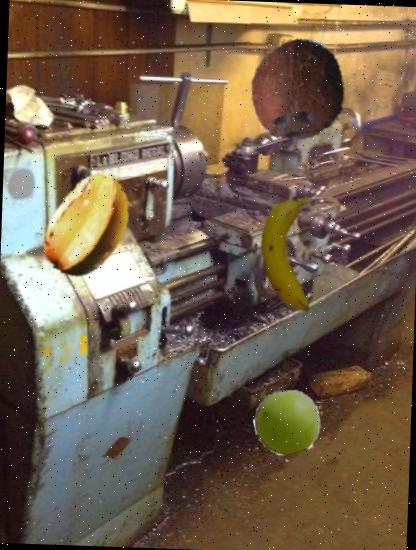Banana: (230, 195, 352, 317)
Carambula: (31, 169, 146, 283)
Cocos: (244, 36, 354, 145)
Grape: (253, 388, 322, 457)
